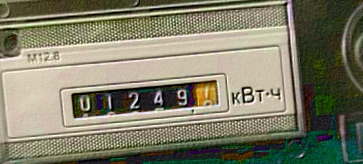0: (79, 92, 92, 113)
1: (103, 91, 114, 110)
2: (127, 90, 141, 110)
4: (152, 87, 164, 107)
7: (200, 80, 213, 100)
9: (175, 86, 189, 108)
screen: (52, 72, 229, 126)
